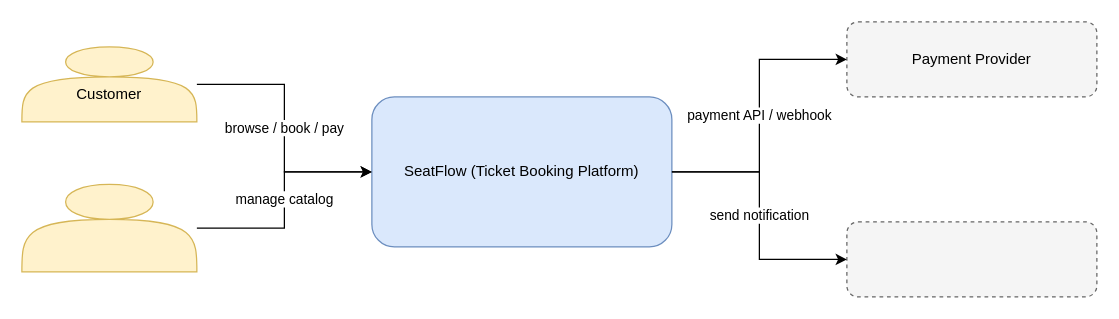
Image size: 1119x319. Some labels were removed from this diagram. The shapes that lost their labels are listed below. From the top down, each one's box as (x1, y1, x2, y2) in pixels, then its label:
(21, 183, 197, 272): Admin / Venue Manager
(846, 221, 1097, 297): Notification Provider (Email/SMS/Push)
